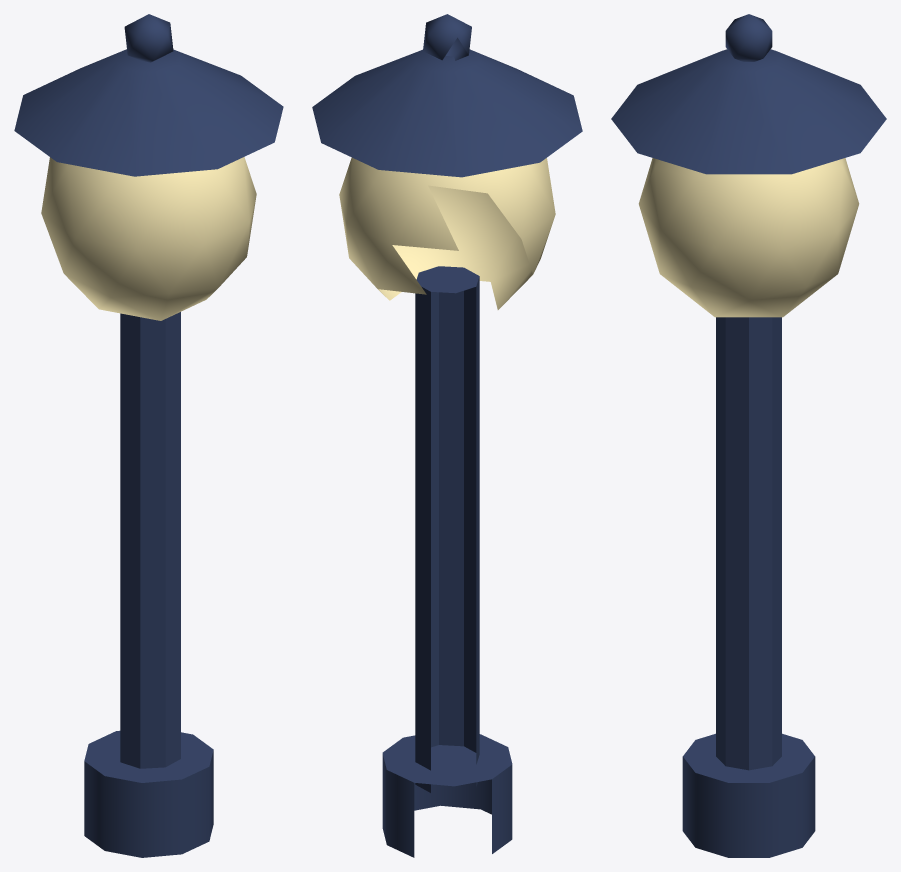
Rendered from ac_lamp_short.glb.
The picture shows the model from 3 angles, left to right: view 1: azimuth 30°, elevation 25°; view 2: azimuth 150°, elevation 25°; view 3: azimuth 270°, elevation 25°; orthographic projection.
Visible parts, largest first — view 1: cyl; view 2: cyl; view 3: cyl.
Boxes of the visible parts, left/top/right/bottom form: cyl: left=14, top=14, right=283, bottom=857; cyl: left=312, top=14, right=582, bottom=857; cyl: left=611, top=14, right=886, bottom=857.
Bounding box in the file's own units: 0.4755 × 1.63 × 0.5.
